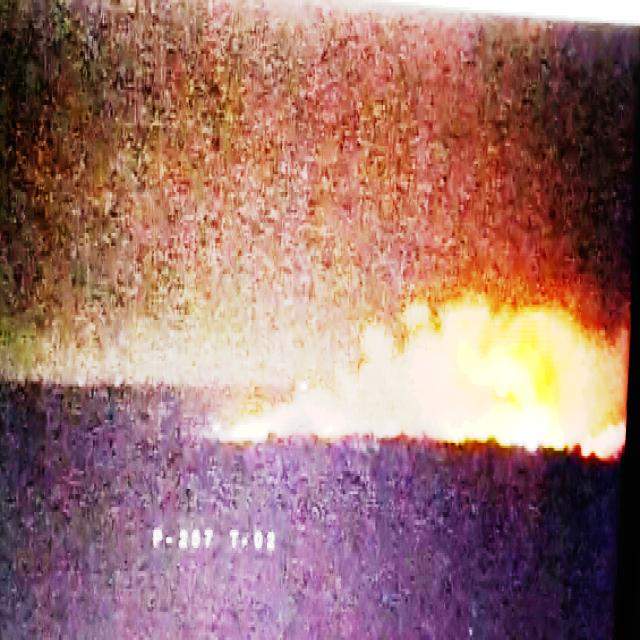asap: (211, 267, 624, 475)
